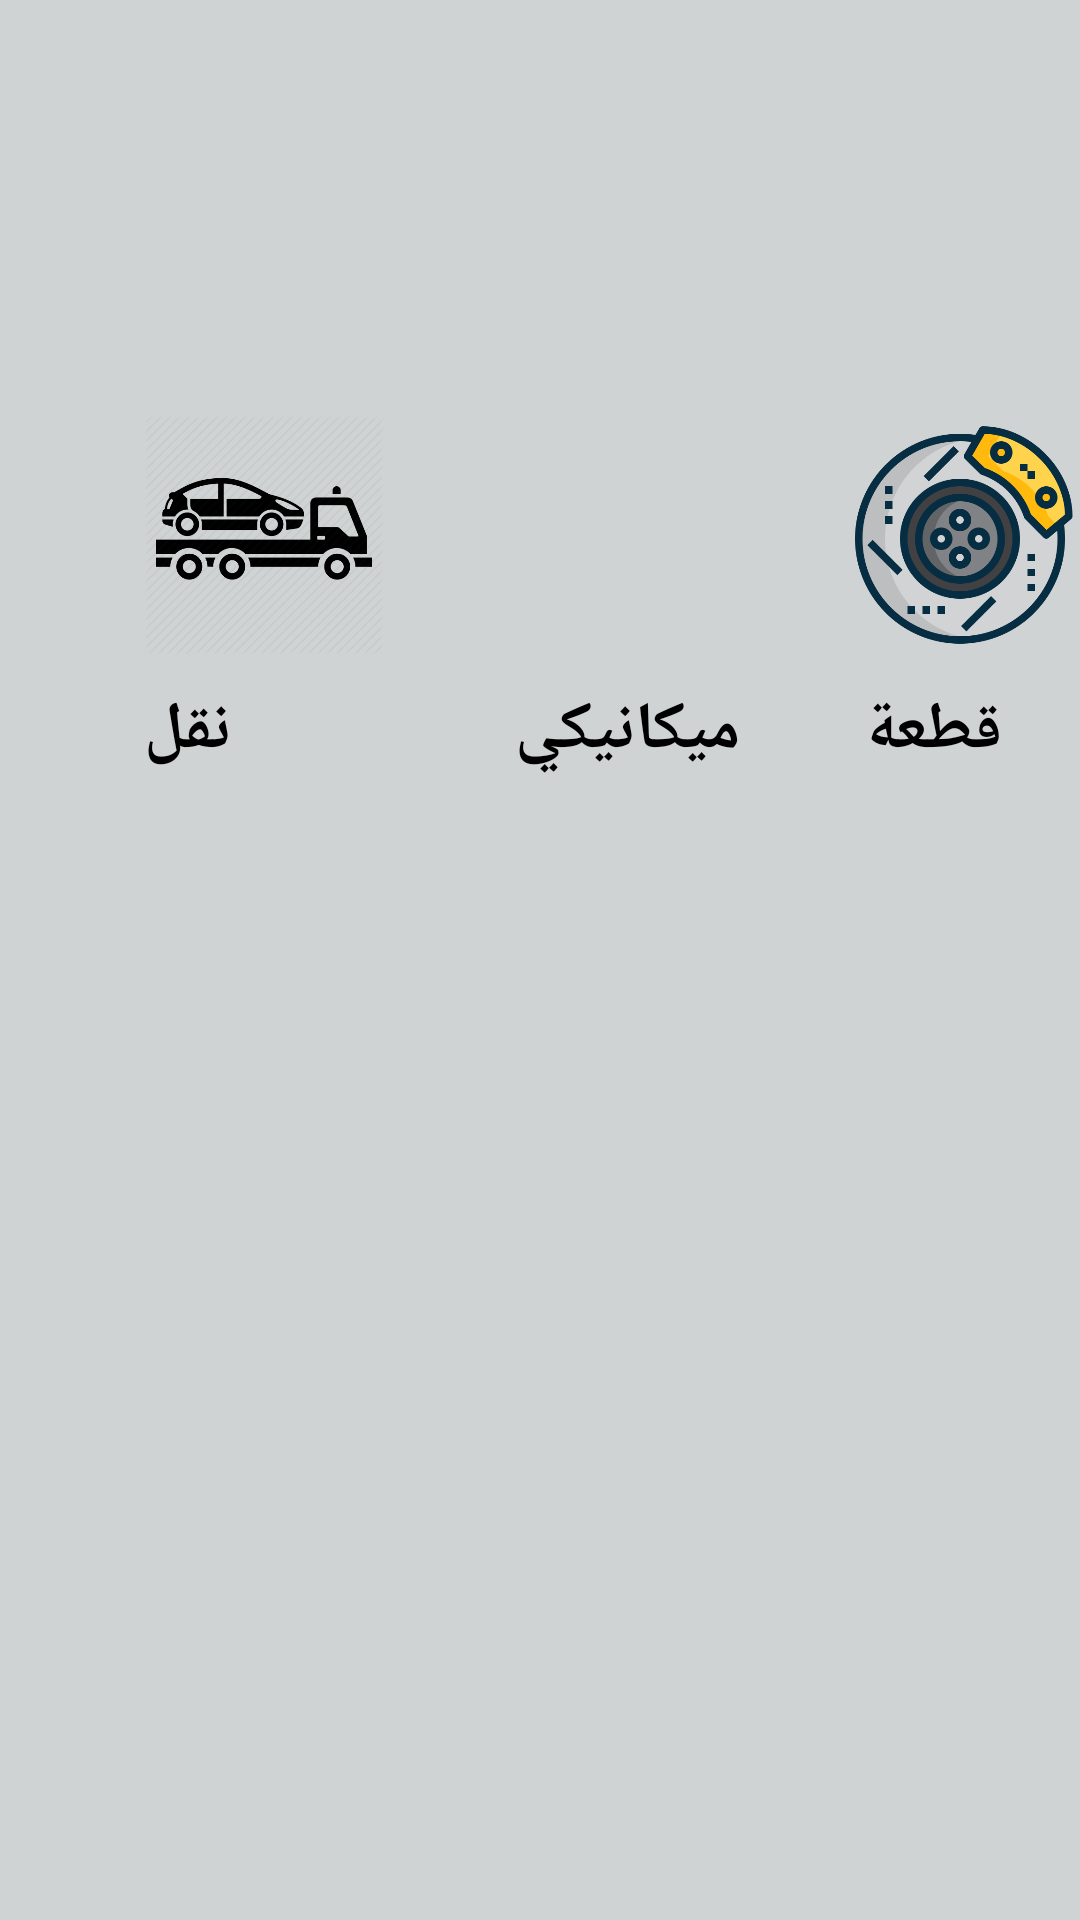

Icon click points for this 1080*1920 phone screenshot, format [x,y]:
brake: [964,535]
